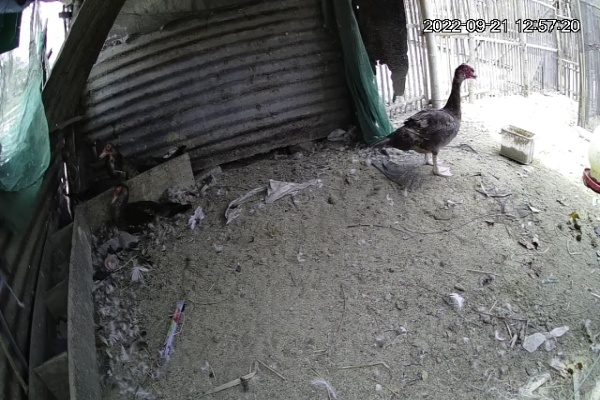Entog: (373, 60, 479, 187)
